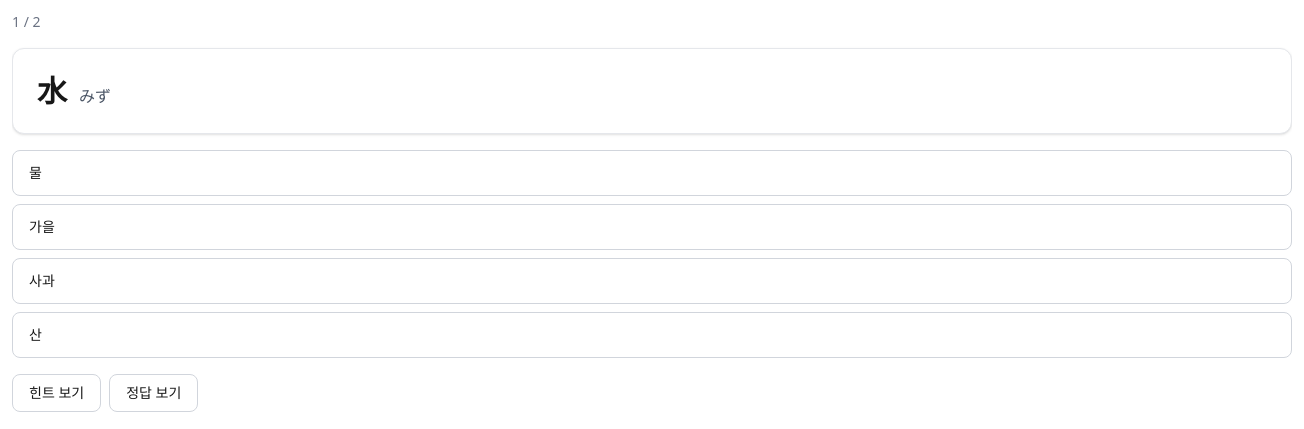
Test case: QuizPlayer › '정답 보기' 클릭 시 오답으로 기록되고 피드백 단계로 전환된다
Click the button "정답 보기" at (154, 393), box [109, 374, 198, 412]
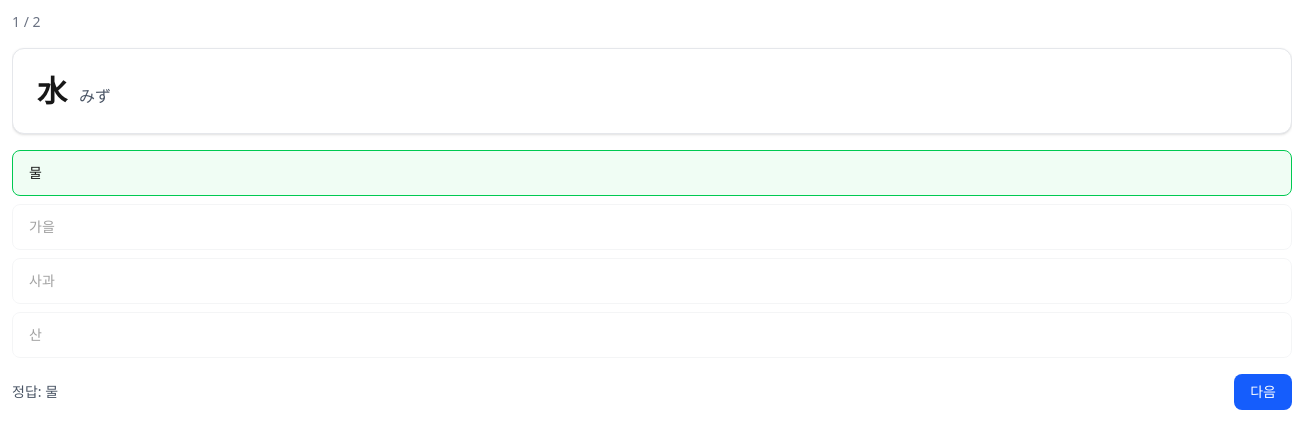
expect the text "정답: 물" is shown: met, box [12, 382, 58, 402]
expect the button "다음" is shown: met, box [1234, 374, 1292, 410]
